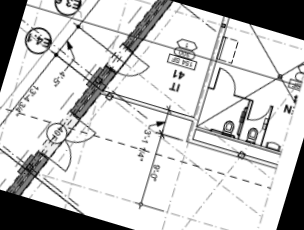door: (116, 50, 154, 85), (210, 65, 243, 98), (245, 97, 272, 127)
double door: (45, 113, 100, 179)
